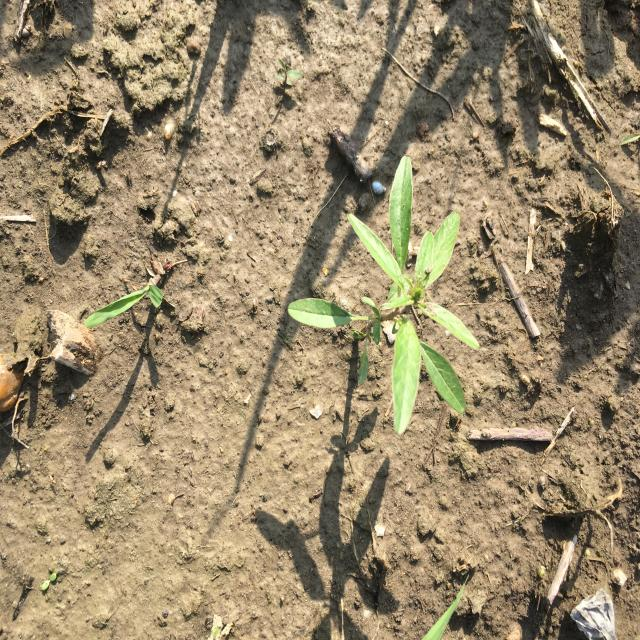Waterhemp: (286, 154, 482, 438)
